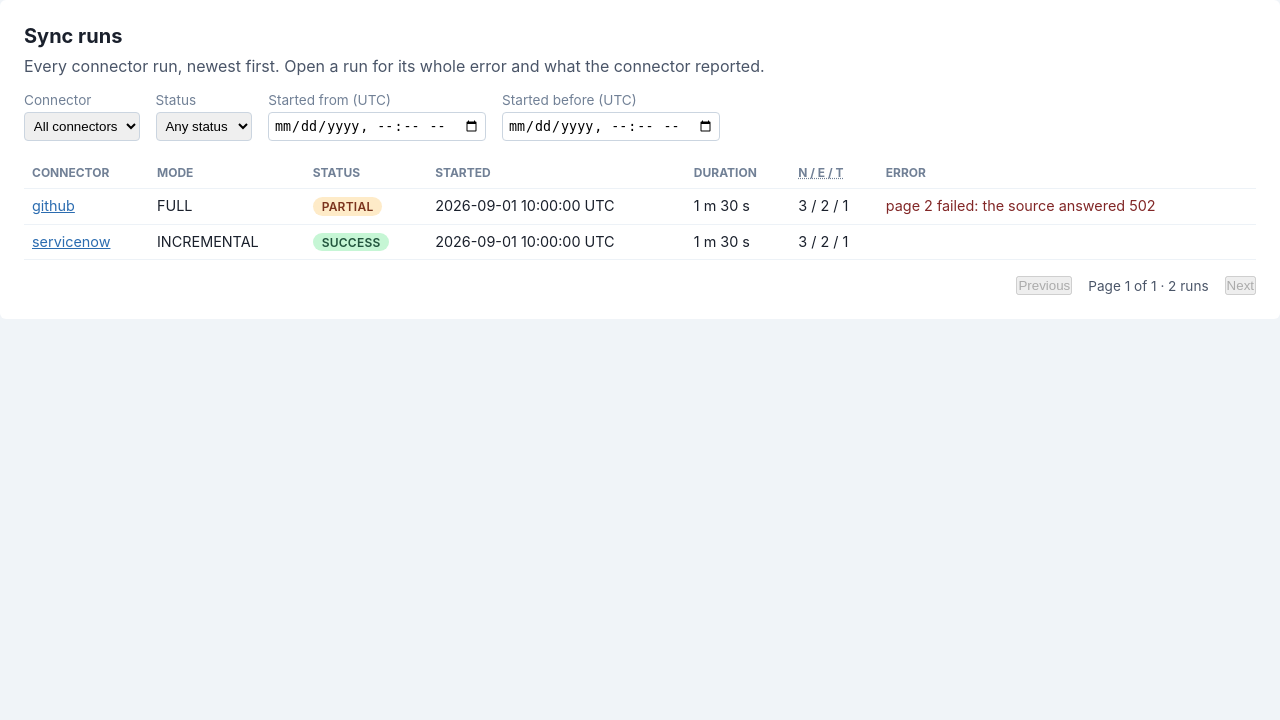
Test case: SyncRunsView › opens the whole run in a drawer when a row is clicked
Click the row with test id "run-run-2": (640, 206) top-left (24, 188), bottom-right (1256, 224)
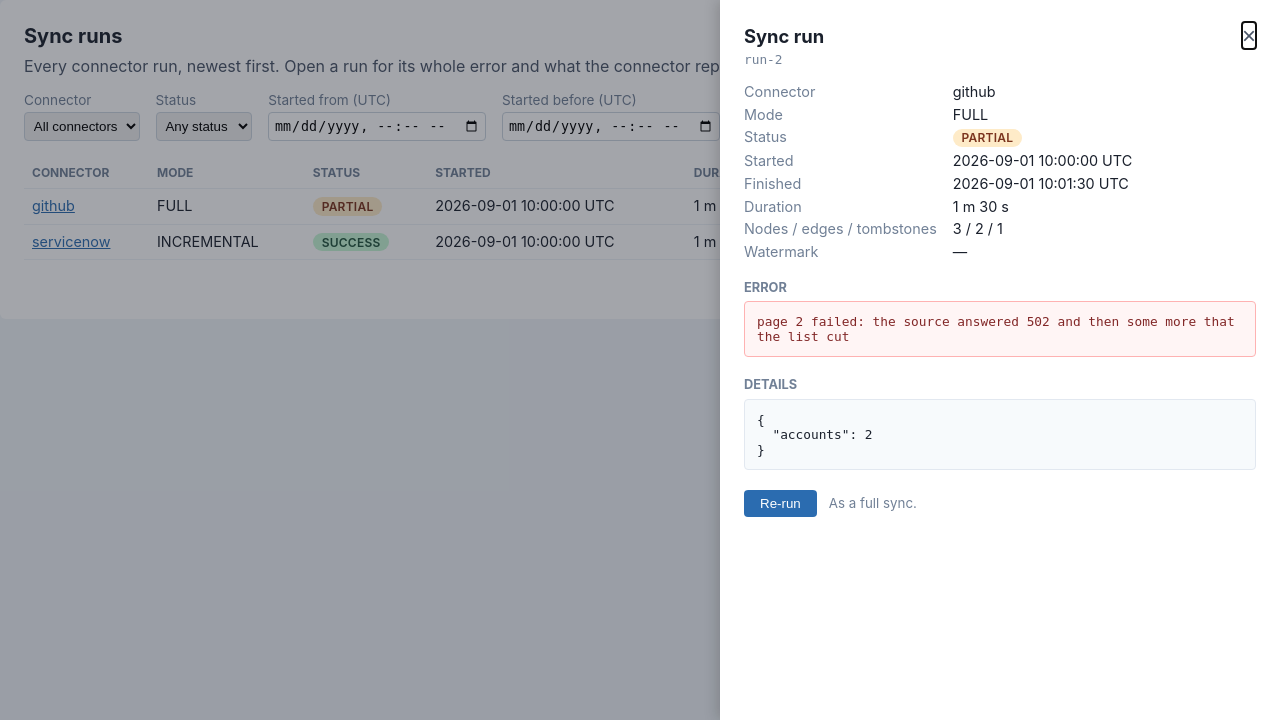
Expected: the dialog is shown, top-left (720, 0), bottom-right (1279, 719)
Expected: the dialog shows "run-2", top-left (744, 52), bottom-right (782, 67)
Expected: the text with test id "run-error" shows "then some more", top-left (757, 314), bottom-right (1242, 344)
